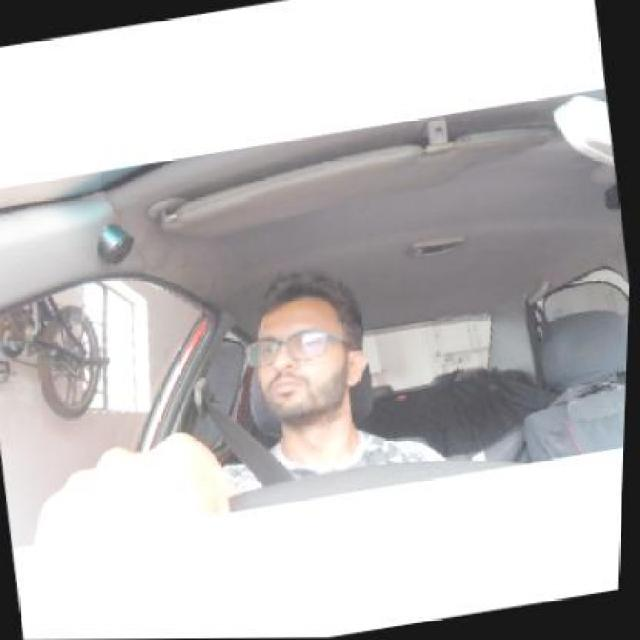person: (249, 281, 367, 419)
